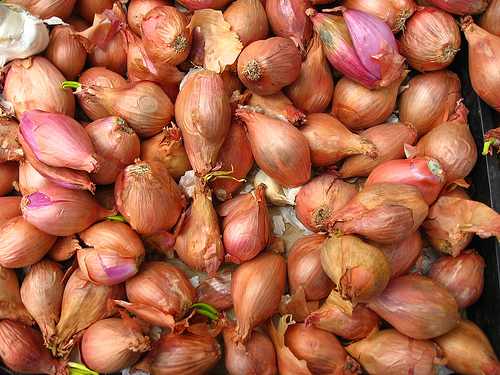onion: (0, 2, 499, 373)
